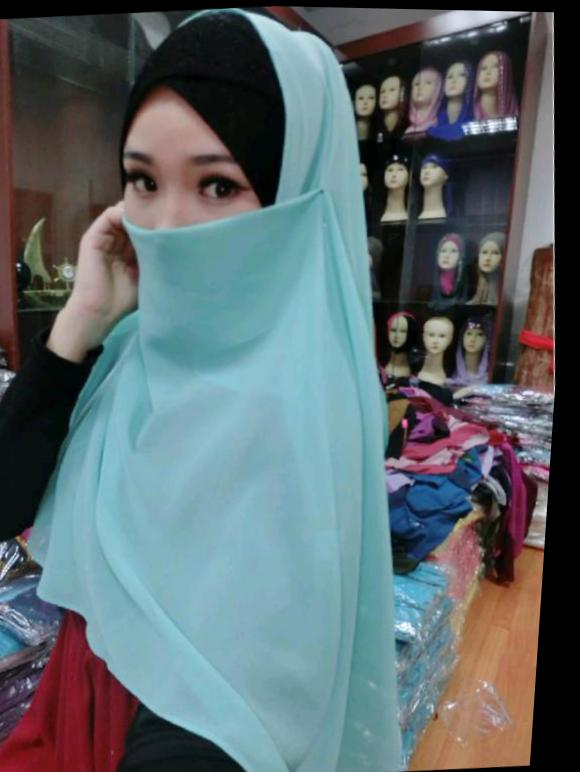WRONG: (100, 131, 301, 325)
